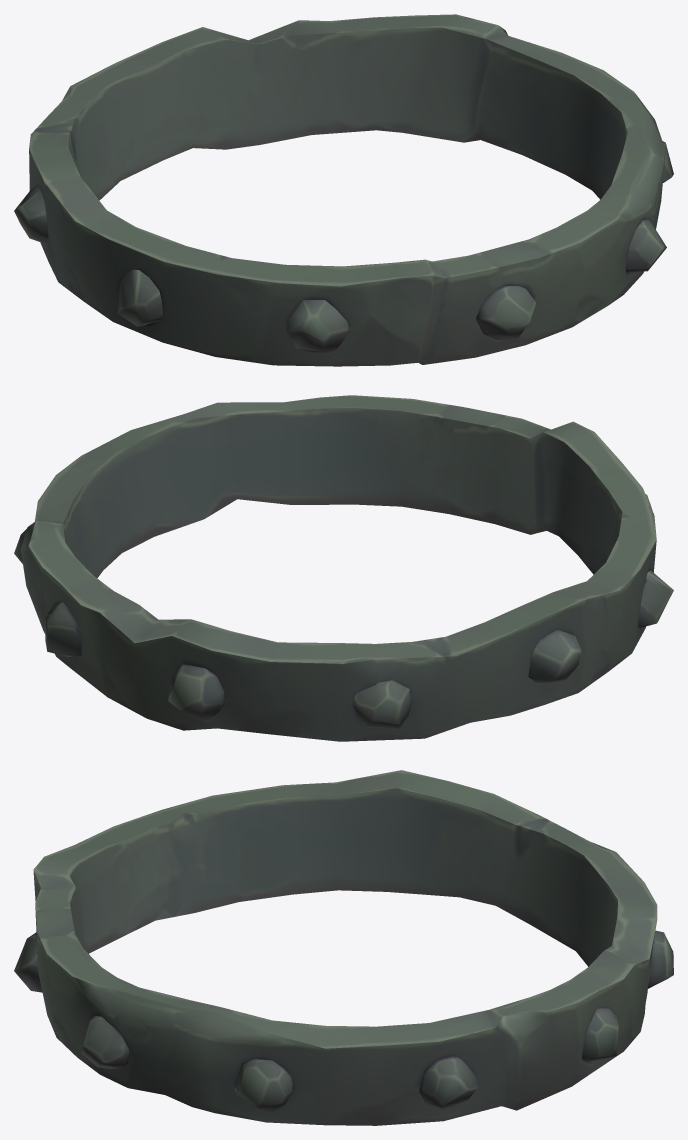
Rendered from SM_FW01_Barrel_Rim_01.fbx.
3 renders of one model, top to bottom at view 1: azimuth 30°, elevation 25°; view 2: azimuth 150°, elevation 25°; view 3: azimuth 270°, elevation 25°, orthographic. The views are drawn at different scales.
Visible parts, largest first — view 1: SM_FW01_Barrel_Rim_01_LOD0; view 2: SM_FW01_Barrel_Rim_01_LOD0; view 3: SM_FW01_Barrel_Rim_01_LOD0.
Part boxes in pixels (x1,y1,x2,y2): SM_FW01_Barrel_Rim_01_LOD0: (14,14,673,366); SM_FW01_Barrel_Rim_01_LOD0: (14,395,673,741); SM_FW01_Barrel_Rim_01_LOD0: (14,770,673,1125).
Size of what is drawn, in the model's own units: 0.9573 by 0.1855 by 0.9937.
